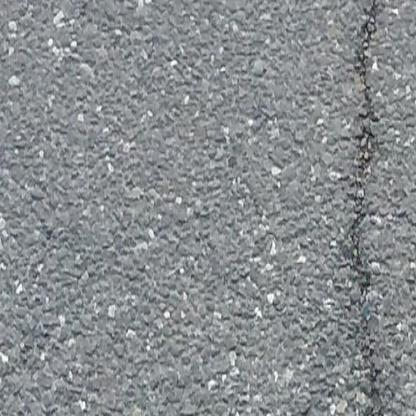Cracks: (349, 0, 385, 301), (364, 354, 377, 373)
